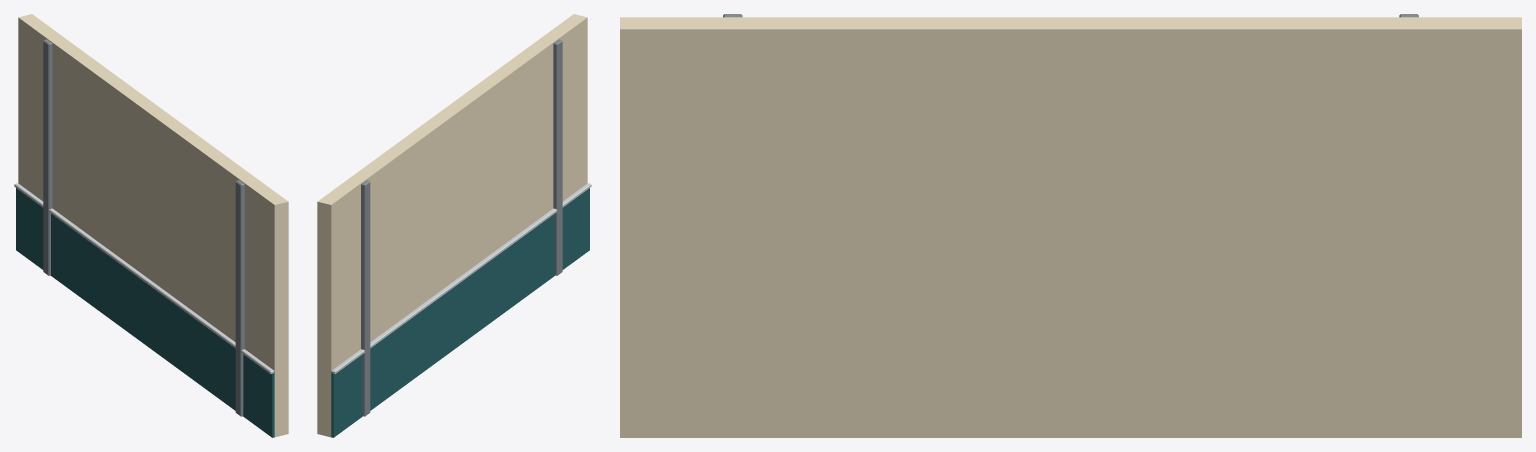
File: Kit_WallSide.fbx
The picture shows the model from 3 angles, left to right: view 1: azimuth 30°, elevation 25°; view 2: azimuth 150°, elevation 25°; view 3: azimuth 270°, elevation 25°; orthographic projection. The views are drawn at different scales.
Parts seen in each view (by area): view 1: SideWall, Decor; view 2: SideWall, Decor; view 3: SideWall.
Part boxes in pixels (box(x1,y1,x2,y2)): SideWall: box(18, 14, 288, 437); Decor: box(14, 39, 274, 437); SideWall: box(317, 14, 587, 437); Decor: box(331, 39, 591, 437); SideWall: box(620, 17, 1521, 437).
Bounding box in the file's own units: 1.35 × 16 × 32.
